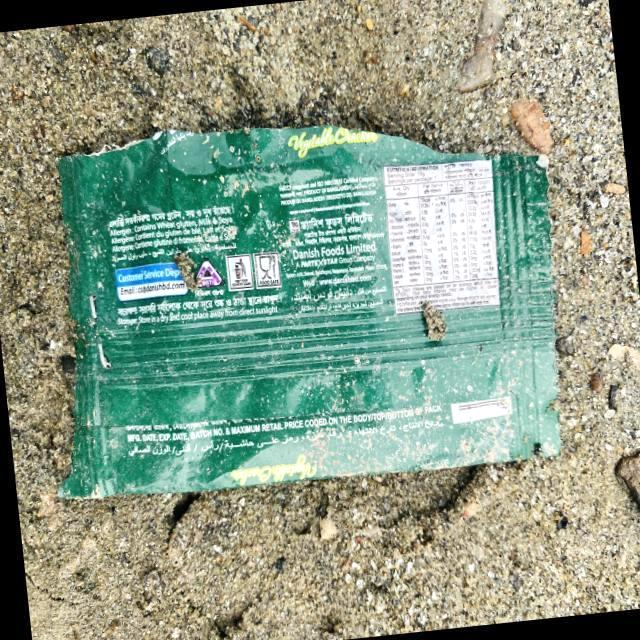packet: (24, 88, 577, 513)
